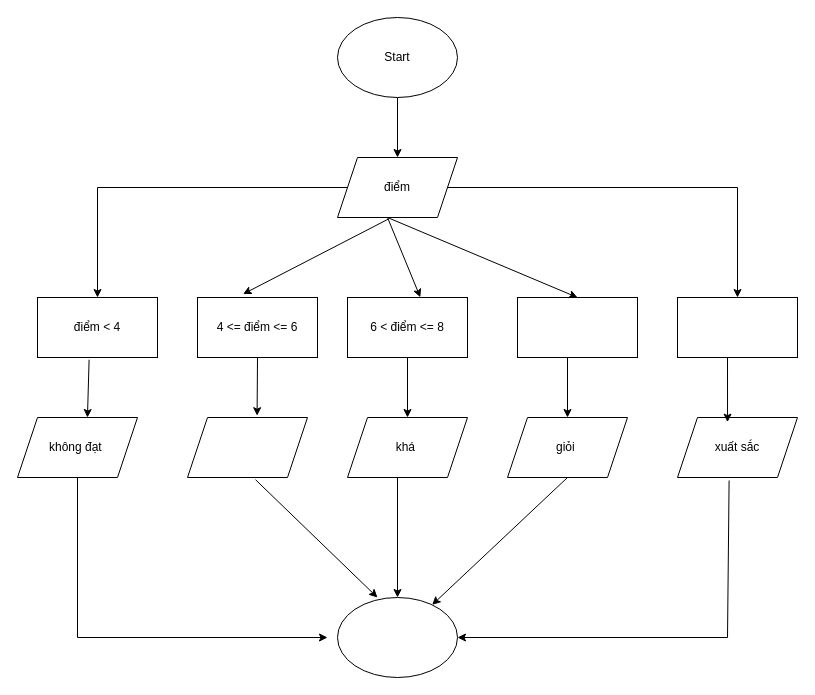
Some shapes in this 815 by 695 pixel diagram are drawn without their labels. Each missing label, with the centre of its shape:
8 < điểm <= 9: (577,327)
9 < điểm <= 10: (737,327)
End: (397,637)
trung bình: (247,447)
